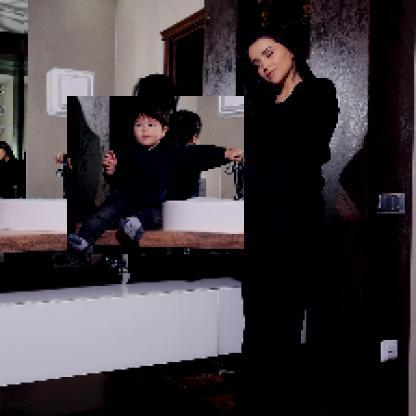child: (68, 97, 246, 256)
